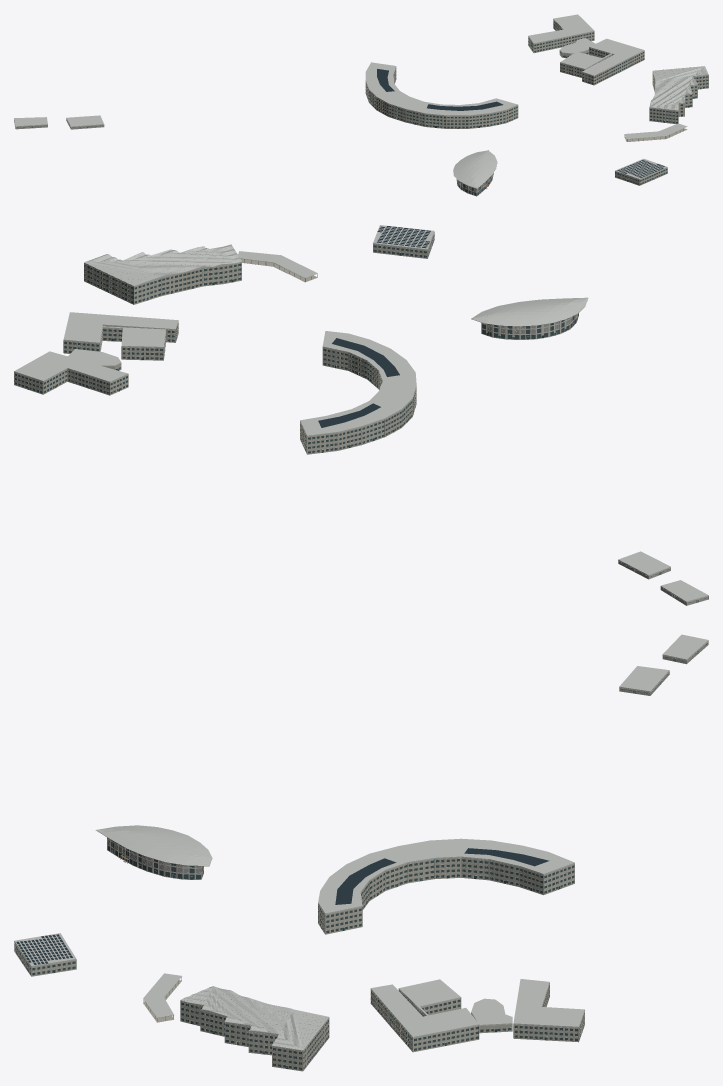
File: UMPSA-Pekan-civic.glb
The picture shows the model from 3 angles, top to bottom: view 1: azimuth 30°, elevation 25°; view 2: azimuth 150°, elevation 25°; view 3: azimuth 270°, elevation 25°; orthographic projection. The views are drawn at different scales.
Parts seen in each view (by area): view 1: Canseleri Tun Abdul Razak (CTAR) - campus exterior, Perpustakaan UMPSA Pekan - campus exterior, Canseleri precinct - southeast academic wing - campus exteri, Canseleri precinct - northeast academic wing - campus exteri, Dewan Konvokesyen - campus exterior, Dewan Cheese - campus exterior, Library entrance arcade - campus exterior, West campus service building B - campus exterior, Canseleri precinct - circular foyer - campus exterior, West campus service building A - campus exterior; view 2: Canseleri Tun Abdul Razak (CTAR) - campus exterior, Perpustakaan UMPSA Pekan - campus exterior, Canseleri precinct - southeast academic wing - campus exteri, Dewan Konvokesyen - campus exterior, Canseleri precinct - northeast academic wing - campus exteri, Dewan Cheese - campus exterior, Library entrance arcade - campus exterior, West campus service building B - campus exterior, West campus service building A - campus exterior, Canseleri precinct - circular foyer - campus exterior; view 3: Canseleri Tun Abdul Razak (CTAR) - campus exterior, Perpustakaan UMPSA Pekan - campus exterior, Canseleri precinct - southeast academic wing - campus exteri, Dewan Konvokesyen - campus exterior, Canseleri precinct - northeast academic wing - campus exteri, Dewan Cheese - campus exterior, Library entrance arcade - campus exterior, Canseleri precinct - circular foyer - campus exterior, West campus service building B - campus exterior, West campus service building A - campus exterior.
Boxes of the visible parts, left/top/right/bottom form: Canseleri Tun Abdul Razak (CTAR) - campus exterior: left=365, top=62, right=518, bottom=128; Perpustakaan UMPSA Pekan - campus exterior: left=649, top=66, right=708, bottom=123; Canseleri precinct - southeast academic wing - campus exteri: left=560, top=38, right=644, bottom=85; Canseleri precinct - northeast academic wing - campus exteri: left=528, top=14, right=594, bottom=53; Dewan Konvokesyen - campus exterior: left=453, top=150, right=497, bottom=196; Dewan Cheese - campus exterior: left=615, top=158, right=667, bottom=185; Library entrance arcade - campus exterior: left=624, top=123, right=687, bottom=141; West campus service building B - campus exterior: left=66, top=115, right=104, bottom=129; Canseleri precinct - circular foyer - campus exterior: left=559, top=38, right=595, bottom=58; West campus service building A - campus exterior: left=14, top=117, right=47, bottom=129; Canseleri Tun Abdul Razak (CTAR) - campus exterior: left=300, top=331, right=416, bottom=454; Perpustakaan UMPSA Pekan - campus exterior: left=84, top=244, right=241, bottom=304; Canseleri precinct - southeast academic wing - campus exteri: left=63, top=312, right=178, bottom=360; Dewan Konvokesyen - campus exterior: left=471, top=297, right=588, bottom=339; Canseleri precinct - northeast academic wing - campus exteri: left=14, top=351, right=128, bottom=395; Dewan Cheese - campus exterior: left=373, top=225, right=434, bottom=258; Library entrance arcade - campus exterior: left=238, top=251, right=317, bottom=282; West campus service building B - campus exterior: left=618, top=551, right=670, bottom=579; West campus service building A - campus exterior: left=660, top=580, right=708, bottom=605; Canseleri precinct - circular foyer - campus exterior: left=68, top=349, right=121, bottom=370; Canseleri Tun Abdul Razak (CTAR) - campus exterior: left=318, top=838, right=574, bottom=934; Perpustakaan UMPSA Pekan - campus exterior: left=180, top=986, right=329, bottom=1071; Canseleri precinct - southeast academic wing - campus exteri: left=370, top=979, right=479, bottom=1052; Dewan Konvokesyen - campus exterior: left=96, top=825, right=212, bottom=879; Canseleri precinct - northeast academic wing - campus exteri: left=513, top=979, right=584, bottom=1042; Dewan Cheese - campus exterior: left=14, top=933, right=76, bottom=976; Library entrance arcade - campus exterior: left=143, top=973, right=181, bottom=1022; Canseleri precinct - circular foyer - campus exterior: left=471, top=998, right=512, bottom=1033; West campus service building B - campus exterior: left=619, top=666, right=669, bottom=695; West campus service building A - campus exterior: left=662, top=634, right=708, bottom=664.
Bounding box in the file's own units: 785 × 18.99 × 533.
